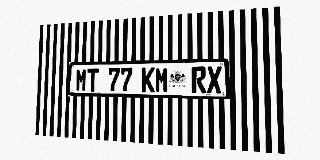7: (107, 68, 120, 92), (120, 68, 133, 92)
K: (141, 67, 155, 92)
M: (155, 67, 168, 93), (75, 68, 87, 91)
R: (191, 66, 206, 93)
T: (87, 68, 99, 92)
X: (207, 66, 222, 93)
